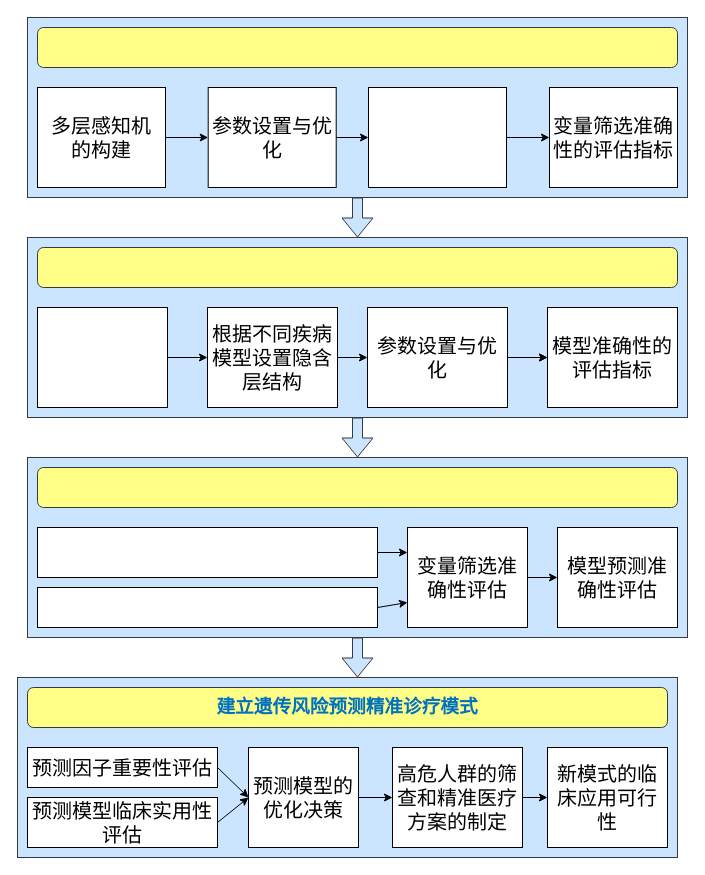
The diagram is 705 pixels wide and 875 high, and some of its shapes have lost their labels. Each missing label, with the centre of its shape:
"变量重要性评分的估算和理论分布推导" goes at point (437, 137).
"建立将变量筛选和风险预测有机融合的深度迁移学习模型" goes at point (357, 267).
"建立适用于全基因组数据的变量筛选方法" goes at point (357, 47).
"模拟研究：疾病模型、噪声信号比、因变量" goes at point (207, 552).
"深度迁移学习模型的构建" goes at point (102, 357).
"真实数据分析 （UKBiobank 和ADNI）" goes at point (207, 607).
"通过模拟数据以及实际数据验证模型的实际预测能力" goes at point (357, 487).
